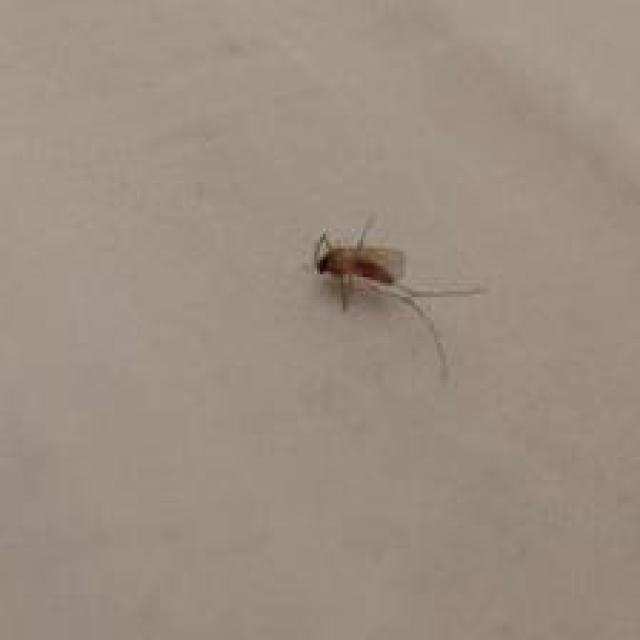Culex: (310, 213, 487, 384)
